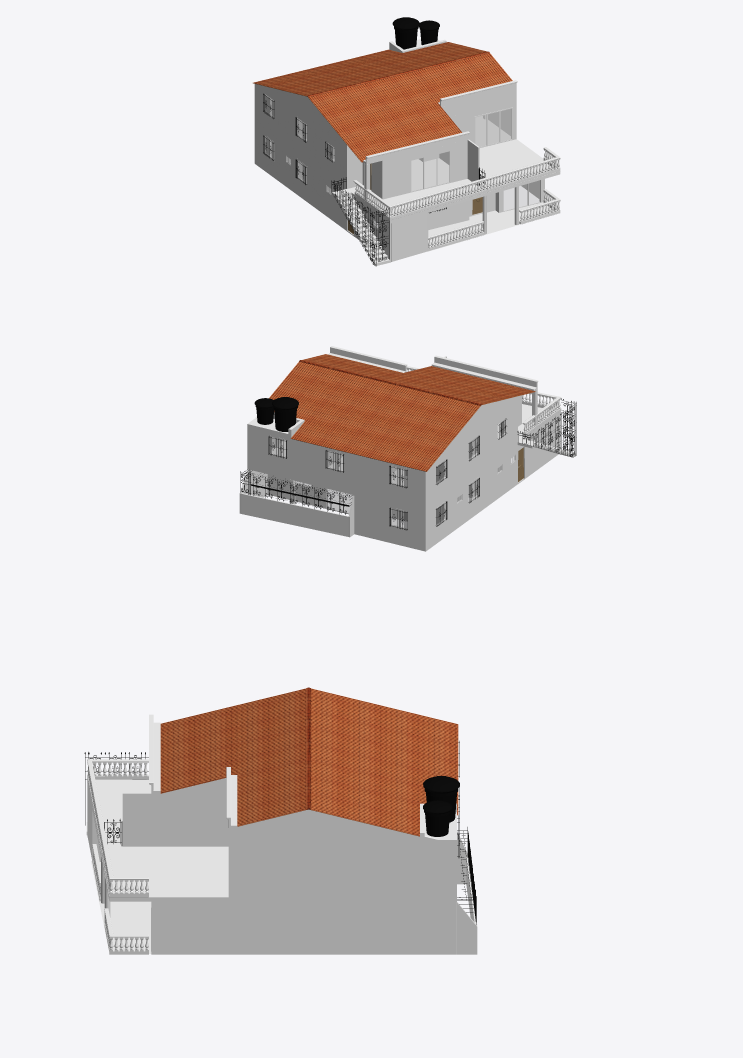
The model's file is Casas.glb.
3 views of the same model, one above another, from view 1: azimuth 30°, elevation 25°; view 2: azimuth 150°, elevation 25°; view 3: azimuth 270°, elevation 25° (orthographic). The views are drawn at different scales.
Visible parts, largest first — view 1: Roof.001, Plane.008, Plane.002, Plane.019, Plane.005, Plane.012, Plane.010, Cube.010, Plane.018, Cube.034, Cube.016, Window.031 (+9 smaller); view 2: Roof.001, Plane.008, Plane.002, Plane.014, Plane.010, Plane.005, Plane.012, Cube.002, Cube.003, Tanque_2000L.001, Cube.018, Cube.024; view 3: Roof.001, Plane.008, Plane.002, Plane.019, Plane.012, Plane.014, Plane.005, Plane.018, Plane.017, Plane.010, Cube.003, Cube.008 (+4 smaller).
Boxes of the visible parts, bbox=[...] form: Roof.001: bbox=[253, 42, 512, 162]; Plane.008: bbox=[256, 85, 515, 199]; Plane.002: bbox=[255, 126, 544, 262]; Plane.019: bbox=[347, 139, 553, 215]; Plane.005: bbox=[254, 116, 560, 223]; Plane.012: bbox=[257, 84, 516, 149]; Plane.010: bbox=[363, 80, 517, 164]; Cube.010: bbox=[391, 159, 557, 217]; Plane.018: bbox=[427, 202, 553, 251]; Cube.034: bbox=[391, 213, 426, 261]; Cube.016: bbox=[334, 190, 390, 265]; Window.031: bbox=[411, 151, 449, 190]; Roof.001: bbox=[269, 354, 535, 471]; Plane.008: bbox=[247, 395, 521, 509]; Plane.002: bbox=[267, 414, 560, 551]; Plane.014: bbox=[239, 469, 354, 537]; Plane.010: bbox=[328, 346, 538, 390]; Plane.005: bbox=[247, 411, 560, 512]; Plane.012: bbox=[254, 396, 517, 467]; Cube.002: bbox=[248, 431, 537, 551]; Cube.003: bbox=[275, 389, 537, 508]; Tanque_2000L.001: bbox=[272, 397, 298, 431]; Cube.018: bbox=[532, 402, 576, 457]; Cube.024: bbox=[250, 473, 349, 514]; Roof.001: bbox=[160, 687, 458, 836]; Plane.008: bbox=[151, 793, 456, 897]; Plane.002: bbox=[87, 783, 405, 954]; Plane.019: bbox=[95, 779, 228, 896]; Plane.012: bbox=[162, 778, 453, 843]; Plane.014: bbox=[405, 831, 477, 954]; Plane.005: bbox=[87, 779, 456, 901]; Plane.018: bbox=[91, 861, 151, 953]; Plane.017: bbox=[122, 792, 151, 846]; Plane.010: bbox=[149, 714, 237, 827]; Cube.003: bbox=[151, 842, 456, 897]; Cube.008: bbox=[87, 759, 148, 880].
Bounding box in the file's own units: 30.46 × 7.66 × 30.46.
Materials: 12 (1 with a texture image).
